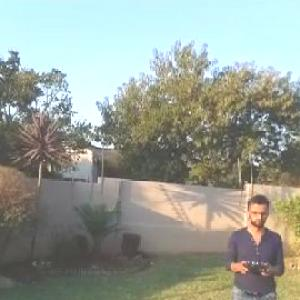follow: (220, 189, 289, 299)
